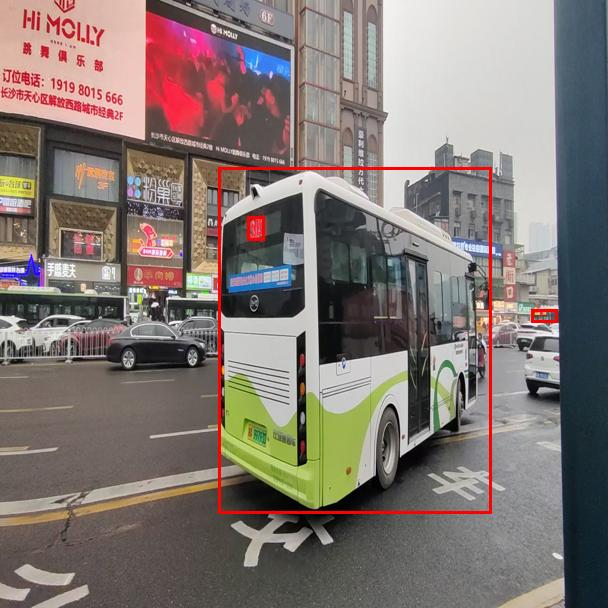bus: (218, 167, 491, 513), (531, 309, 557, 322)
screen: (247, 216, 264, 240)
